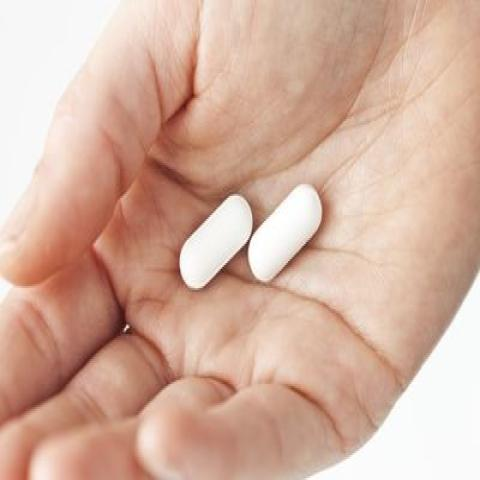Pill: (162, 181, 256, 311), (249, 167, 341, 292)
